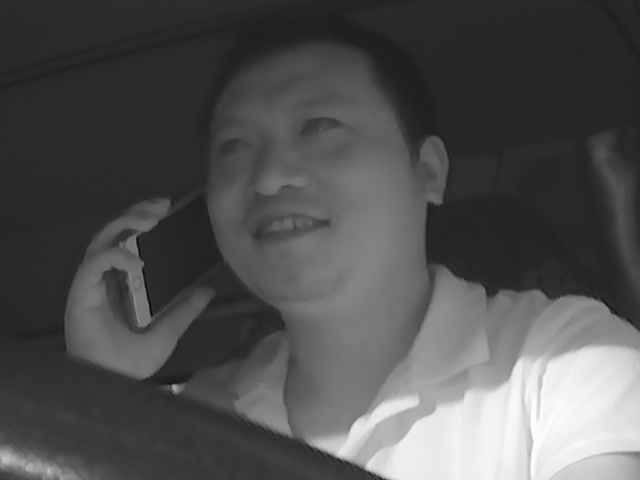hand: (66, 195, 206, 382)
